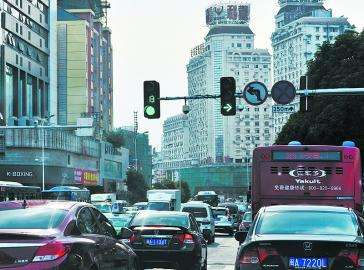green: (142, 80, 162, 120), (219, 75, 237, 117)
